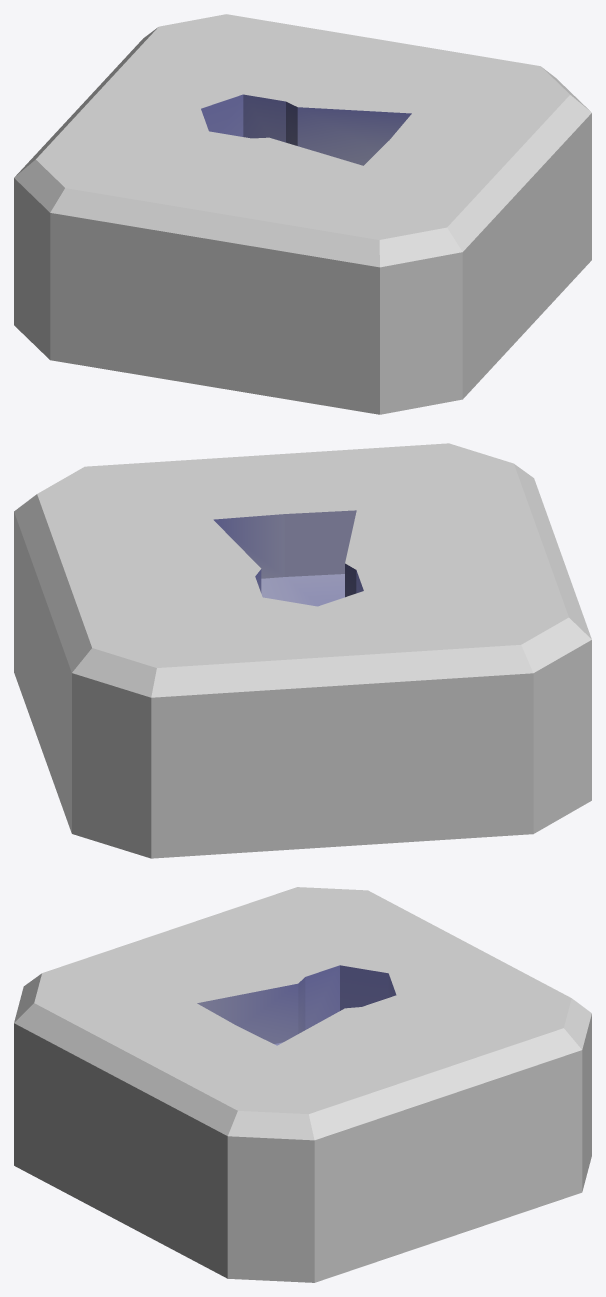
The model's file is lock.fbx.
3 views of the same model, one above another, from view 1: azimuth 30°, elevation 25°; view 2: azimuth 150°, elevation 25°; view 3: azimuth 270°, elevation 25° (orthographic). The views are drawn at different scales.
Visible parts, largest first — view 1: lock; view 2: lock; view 3: lock.
Part boxes in pixels (x1,y1,x2,y2): lock: (14, 14, 591, 414); lock: (14, 443, 591, 858); lock: (14, 887, 591, 1282).
Bounding box in the file's own units: 60.63 × 18.54 × 60.63.
